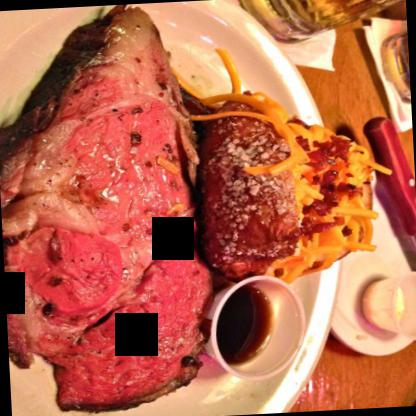beef: (0, 4, 215, 415)
